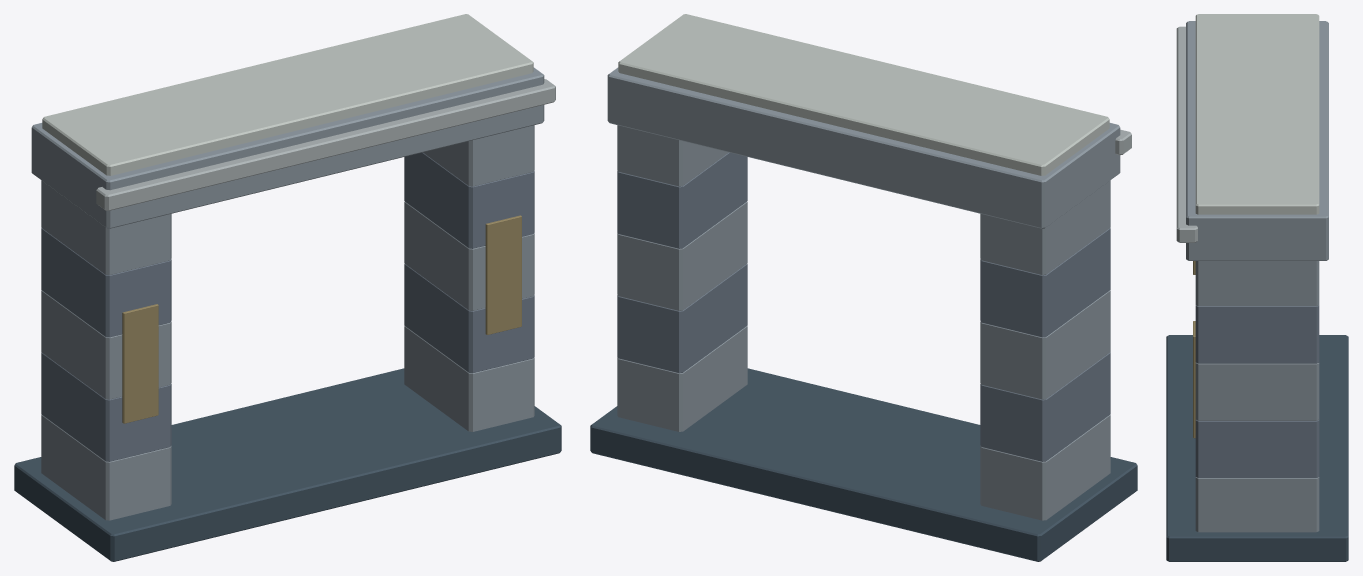
File: cloister-gateway.glb
3 renders of one model, left to right at view 1: azimuth 30°, elevation 25°; view 2: azimuth 150°, elevation 25°; view 3: azimuth 270°, elevation 25°, orthographic. The views are drawn at different scales.
Visible parts, largest first — view 1: cloister-gateway__body; view 2: cloister-gateway__body; view 3: cloister-gateway__body.
Part boxes in pixels (<box>): cloister-gateway__body: <box>14,14,561,561</box>; cloister-gateway__body: <box>590,14,1137,561</box>; cloister-gateway__body: <box>1166,14,1348,561</box>.
Bounding box in the file's own units: 2.05 × 1.66 × 0.78.
